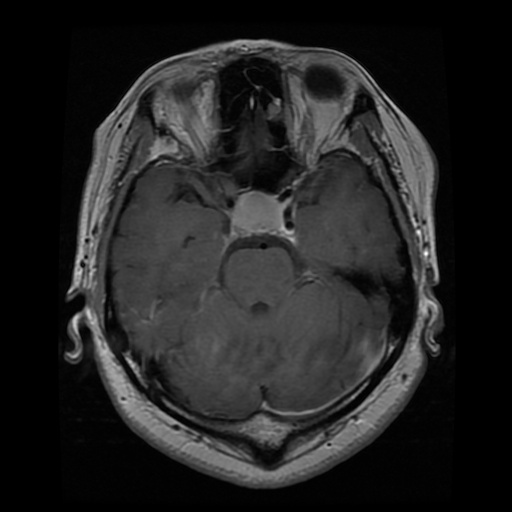pituitary: (231, 190, 285, 234)
